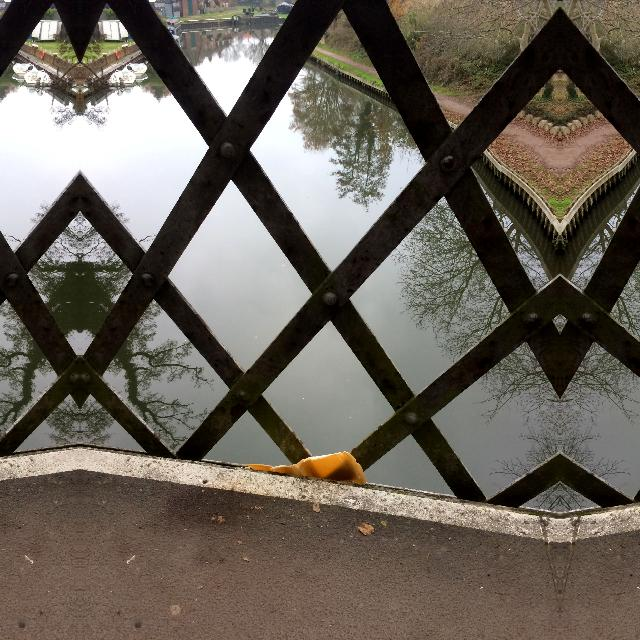Plastic: (233, 445, 369, 487)
